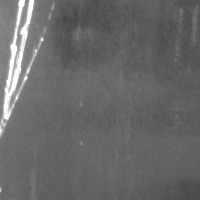scratches: (0, 0, 43, 138)
